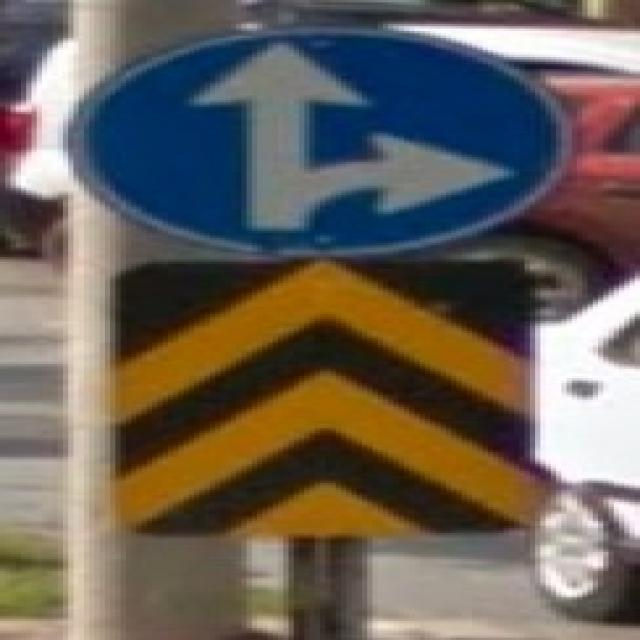Straight or Right: (59, 30, 541, 244)
